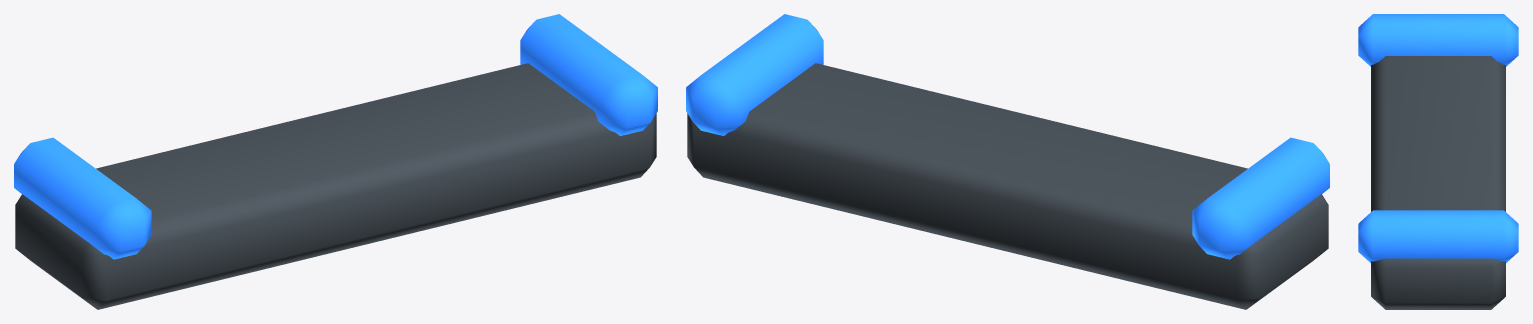
File: Platform_Connector_Straight.fbx
The picture shows the model from 3 angles, left to right: view 1: azimuth 30°, elevation 25°; view 2: azimuth 150°, elevation 25°; view 3: azimuth 270°, elevation 25°; orthographic projection. The views are drawn at different scales.
Visible parts, largest first — view 1: Bridge, Lock L, Lock R; view 2: Bridge, Lock L, Lock R; view 3: Bridge, Lock R, Lock L.
Part boxes in pixels (x1=…): Bridge: x1=15, y1=63, x2=656, y2=309; Lock L: x1=14, y1=137, x2=151, y2=259; Lock R: x1=520, y1=14, x2=657, y2=135; Bridge: x1=687, y1=63, x2=1328, y2=309; Lock L: x1=1192, y1=137, x2=1329, y2=259; Lock R: x1=686, y1=14, x2=823, y2=135; Bridge: x1=1371, y1=56, x2=1505, y2=309; Lock R: x1=1358, y1=210, x2=1518, y2=262; Lock L: x1=1358, y1=14, x2=1518, y2=66.
Size of the model in its own units: 125 by 23 by 38.
